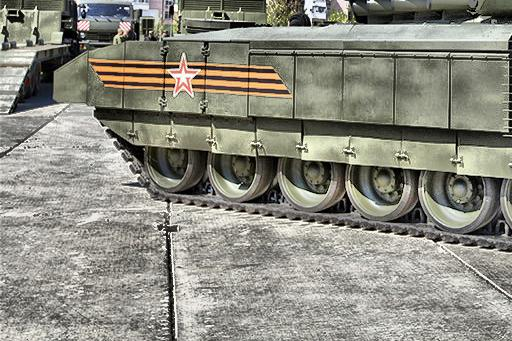tanks: (55, 1, 512, 250)
